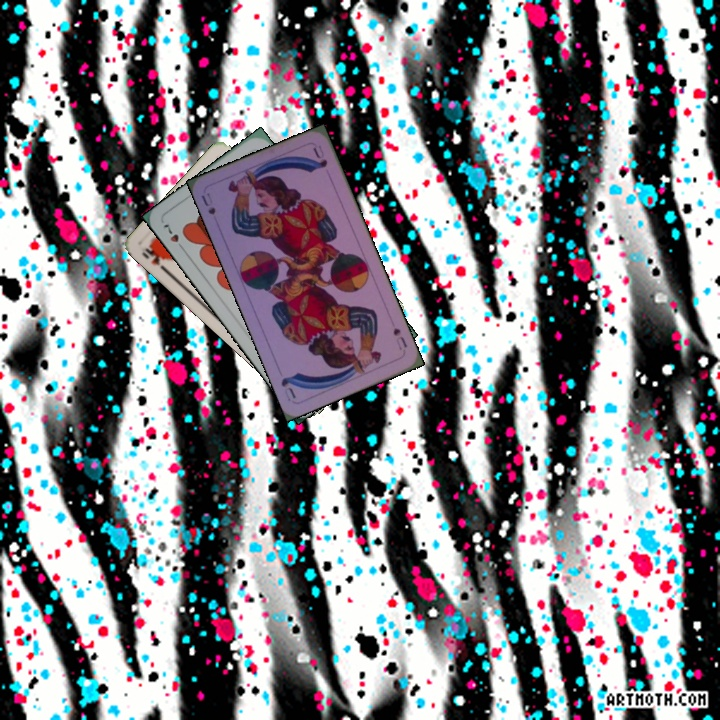H7: (159, 220, 188, 254)
HO: (138, 241, 171, 276)
SU: (197, 189, 219, 217), (389, 324, 410, 353)
